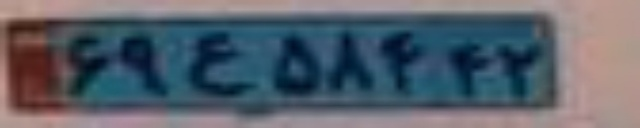2: (498, 41, 543, 98)
4: (377, 31, 425, 93), (443, 44, 493, 95)
5: (270, 34, 321, 94)
6: (64, 36, 109, 95)
8: (328, 31, 376, 91)
9: (117, 35, 171, 96)
ain: (186, 33, 251, 96)
